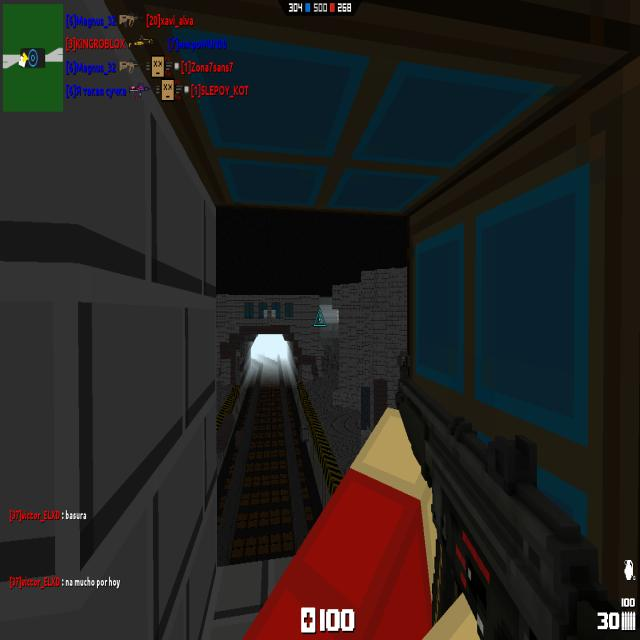enemy: (336, 310, 339, 324)
